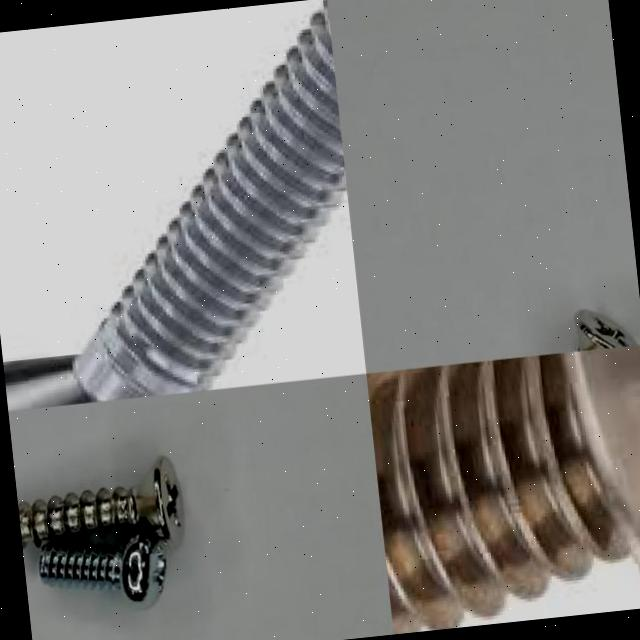Screw: (2, 0, 348, 411), (366, 344, 640, 634), (18, 456, 183, 546), (38, 531, 167, 606), (575, 310, 636, 351)
